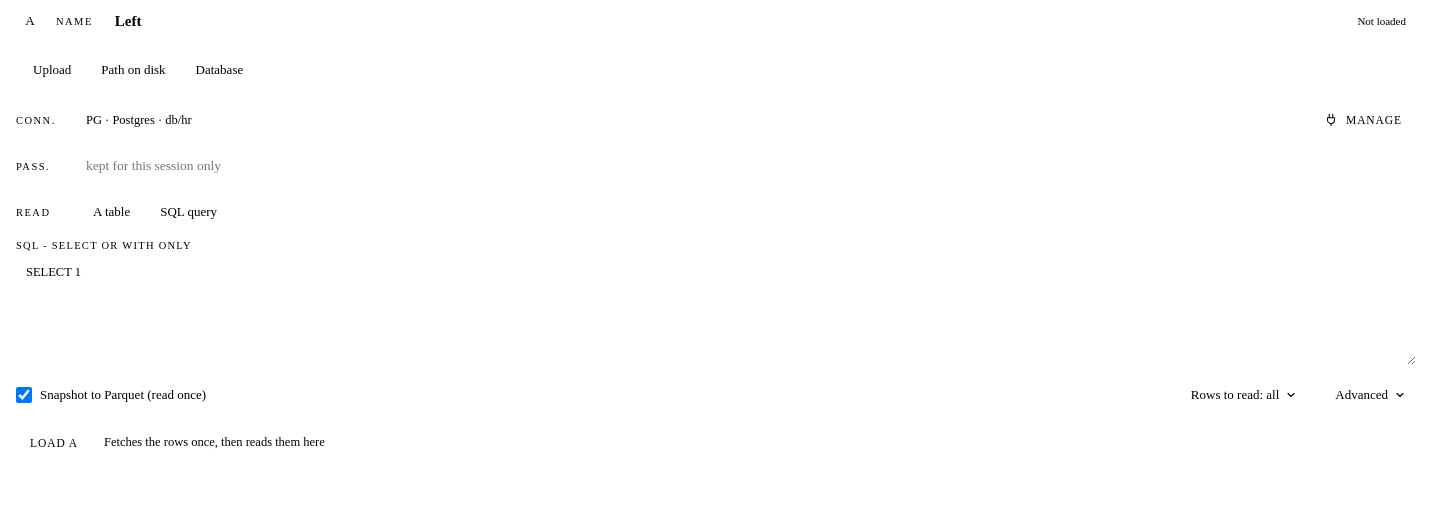
Test case: a fetch that fails on the login says to type the password again
Click the button "Load A".
click(54, 443)  # box [16,425,92,461]
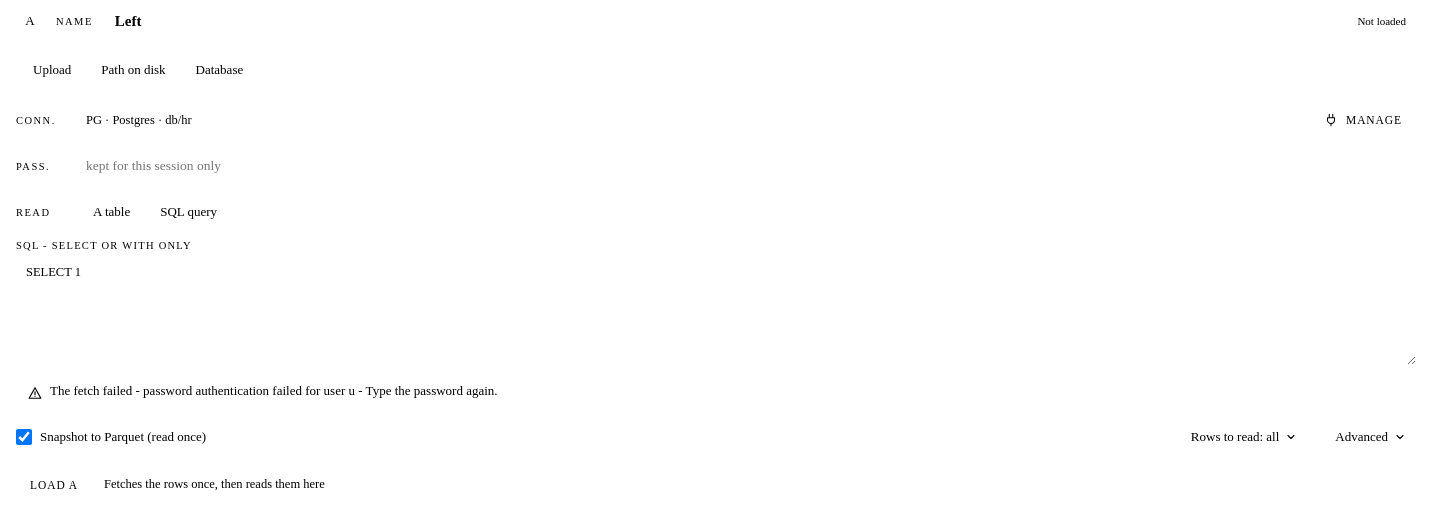
Result: the text "Type the password again" is shown at [50,383,498,398]
